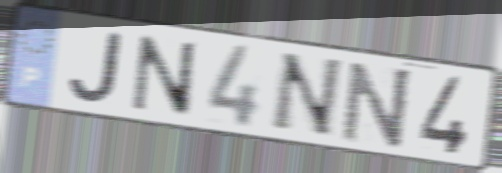4: (205, 42, 263, 131), (418, 74, 470, 156)
J: (66, 28, 126, 106)
N: (265, 50, 346, 141), (339, 59, 415, 150), (130, 32, 198, 120)
